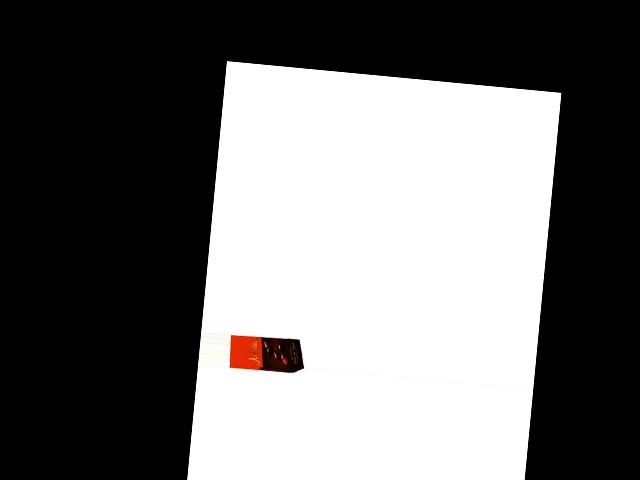chocolate: (228, 329, 306, 376)
